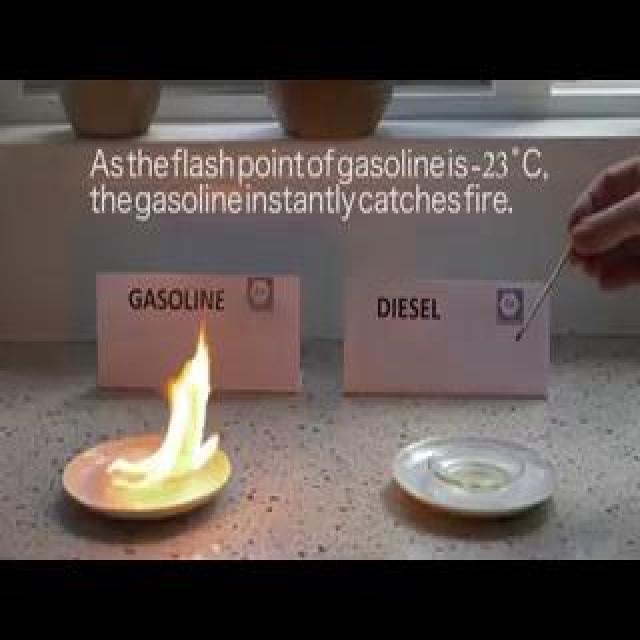Fire: (112, 304, 216, 499)
